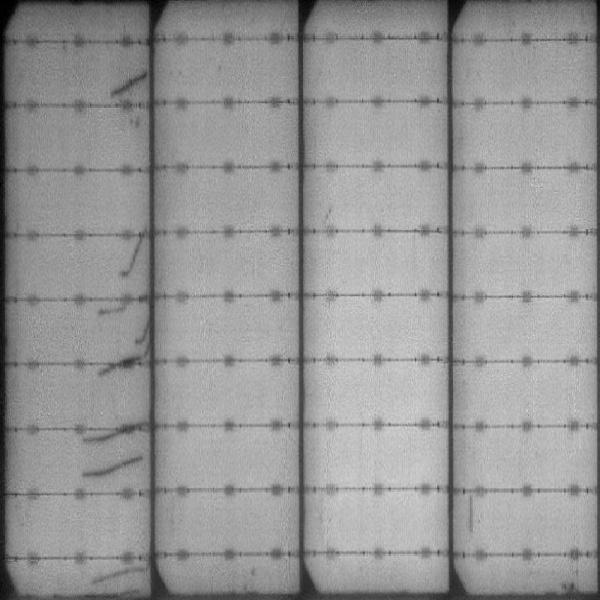scratch: (97, 303, 152, 377), (82, 453, 152, 480), (82, 420, 154, 442), (120, 229, 147, 277), (94, 561, 153, 582), (111, 67, 152, 97), (464, 492, 478, 542)
